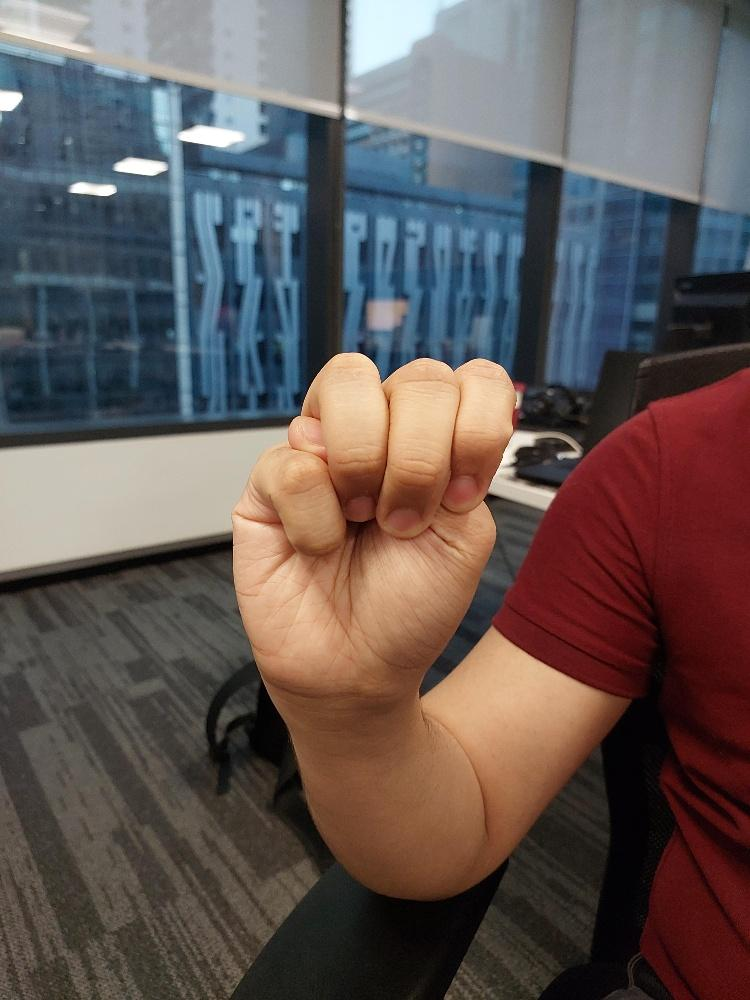m: (229, 345, 519, 716)
